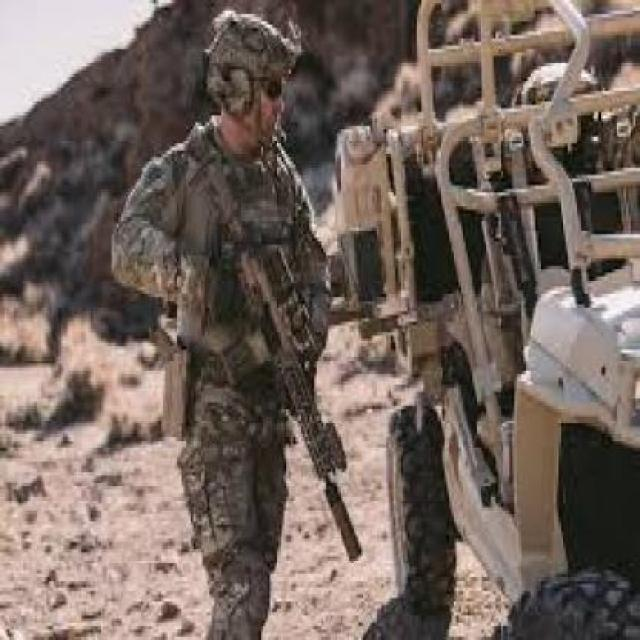weapon: (205, 200, 371, 568)
